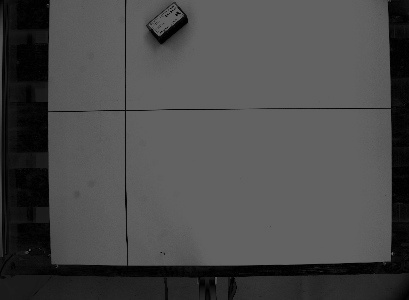b3: (142, 1, 191, 47)
